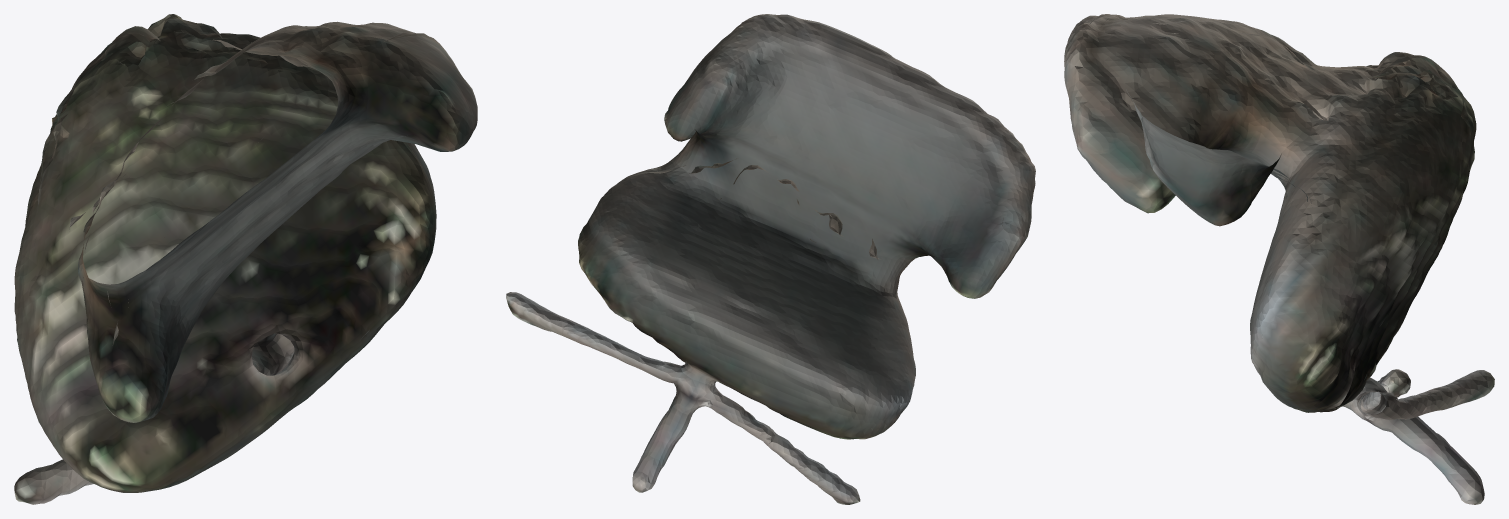
The model's file is chair_left-aligned.glb.
3 renders of one model, left to right at view 1: azimuth 30°, elevation 25°; view 2: azimuth 150°, elevation 25°; view 3: azimuth 270°, elevation 25°, orthographic. The views are drawn at different scales.
Visible parts, largest first — view 1: model.ply; view 2: model.ply; view 3: model.ply.
Boxes of the visible parts, x1,y1,x2,y2 form: model.ply: (14,14,477,504); model.ply: (506,14,1035,504); model.ply: (1064,14,1494,504).
Size of the model in its own units: 1.11 by 1.1 by 0.9257.
